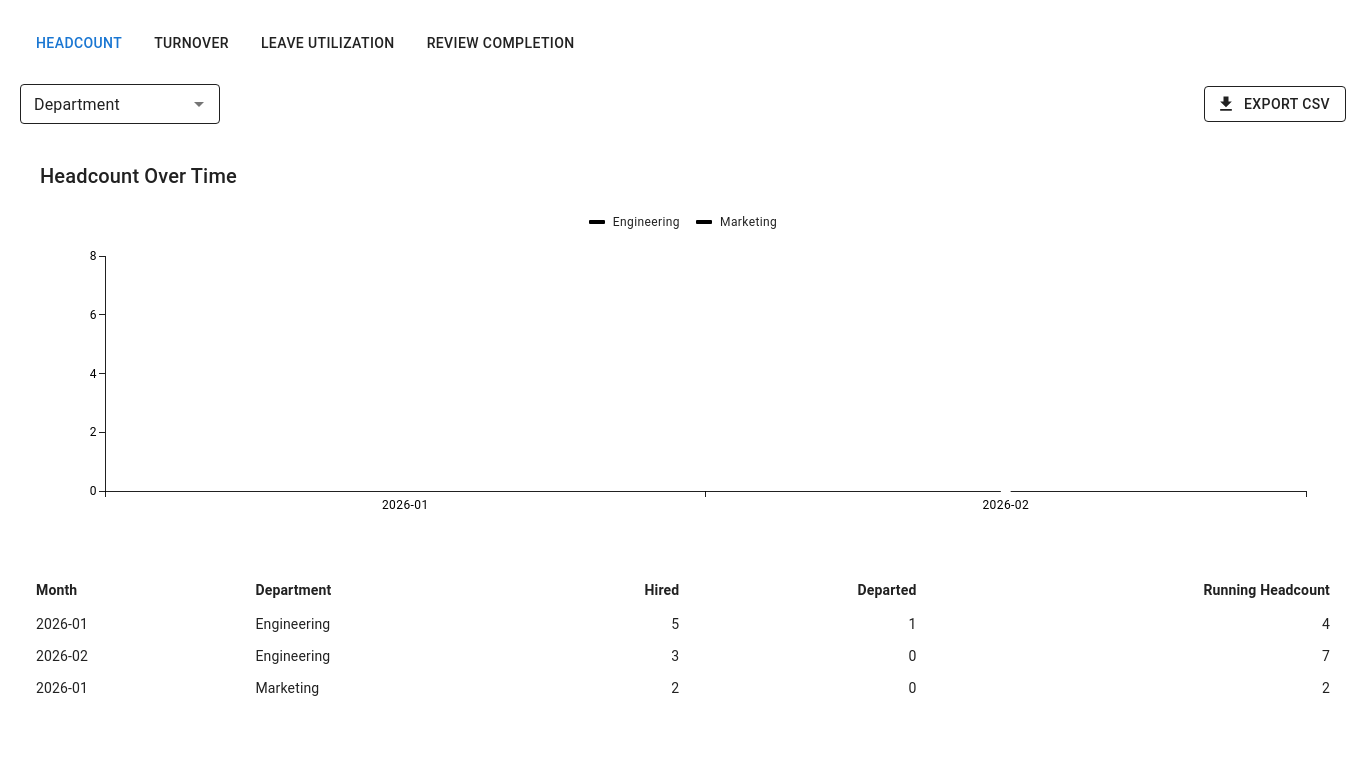
Test: ReportsDashboard › hides department filter on reviews tab
Click the tab "Review Completion" at (501, 44), box [411,20,591,68]
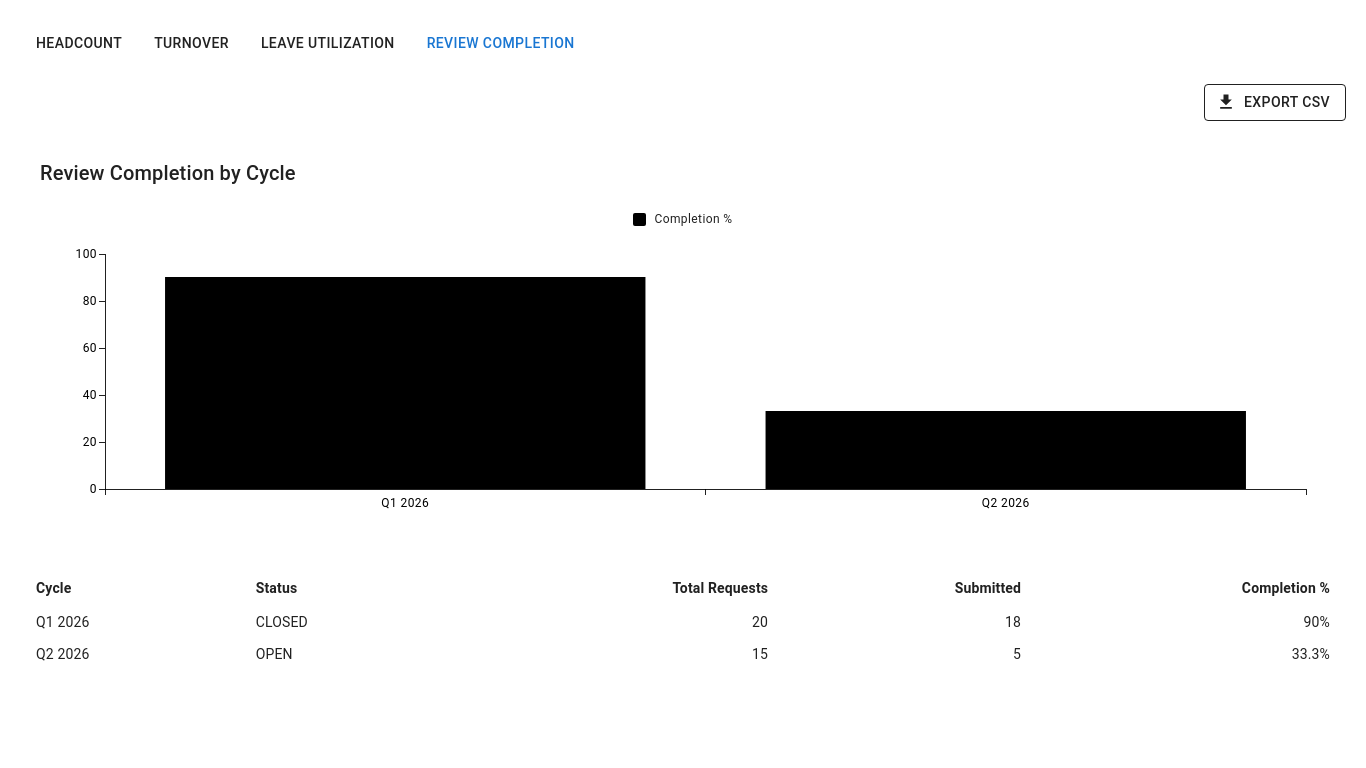
Expected: the label labelled "Department" is gone
